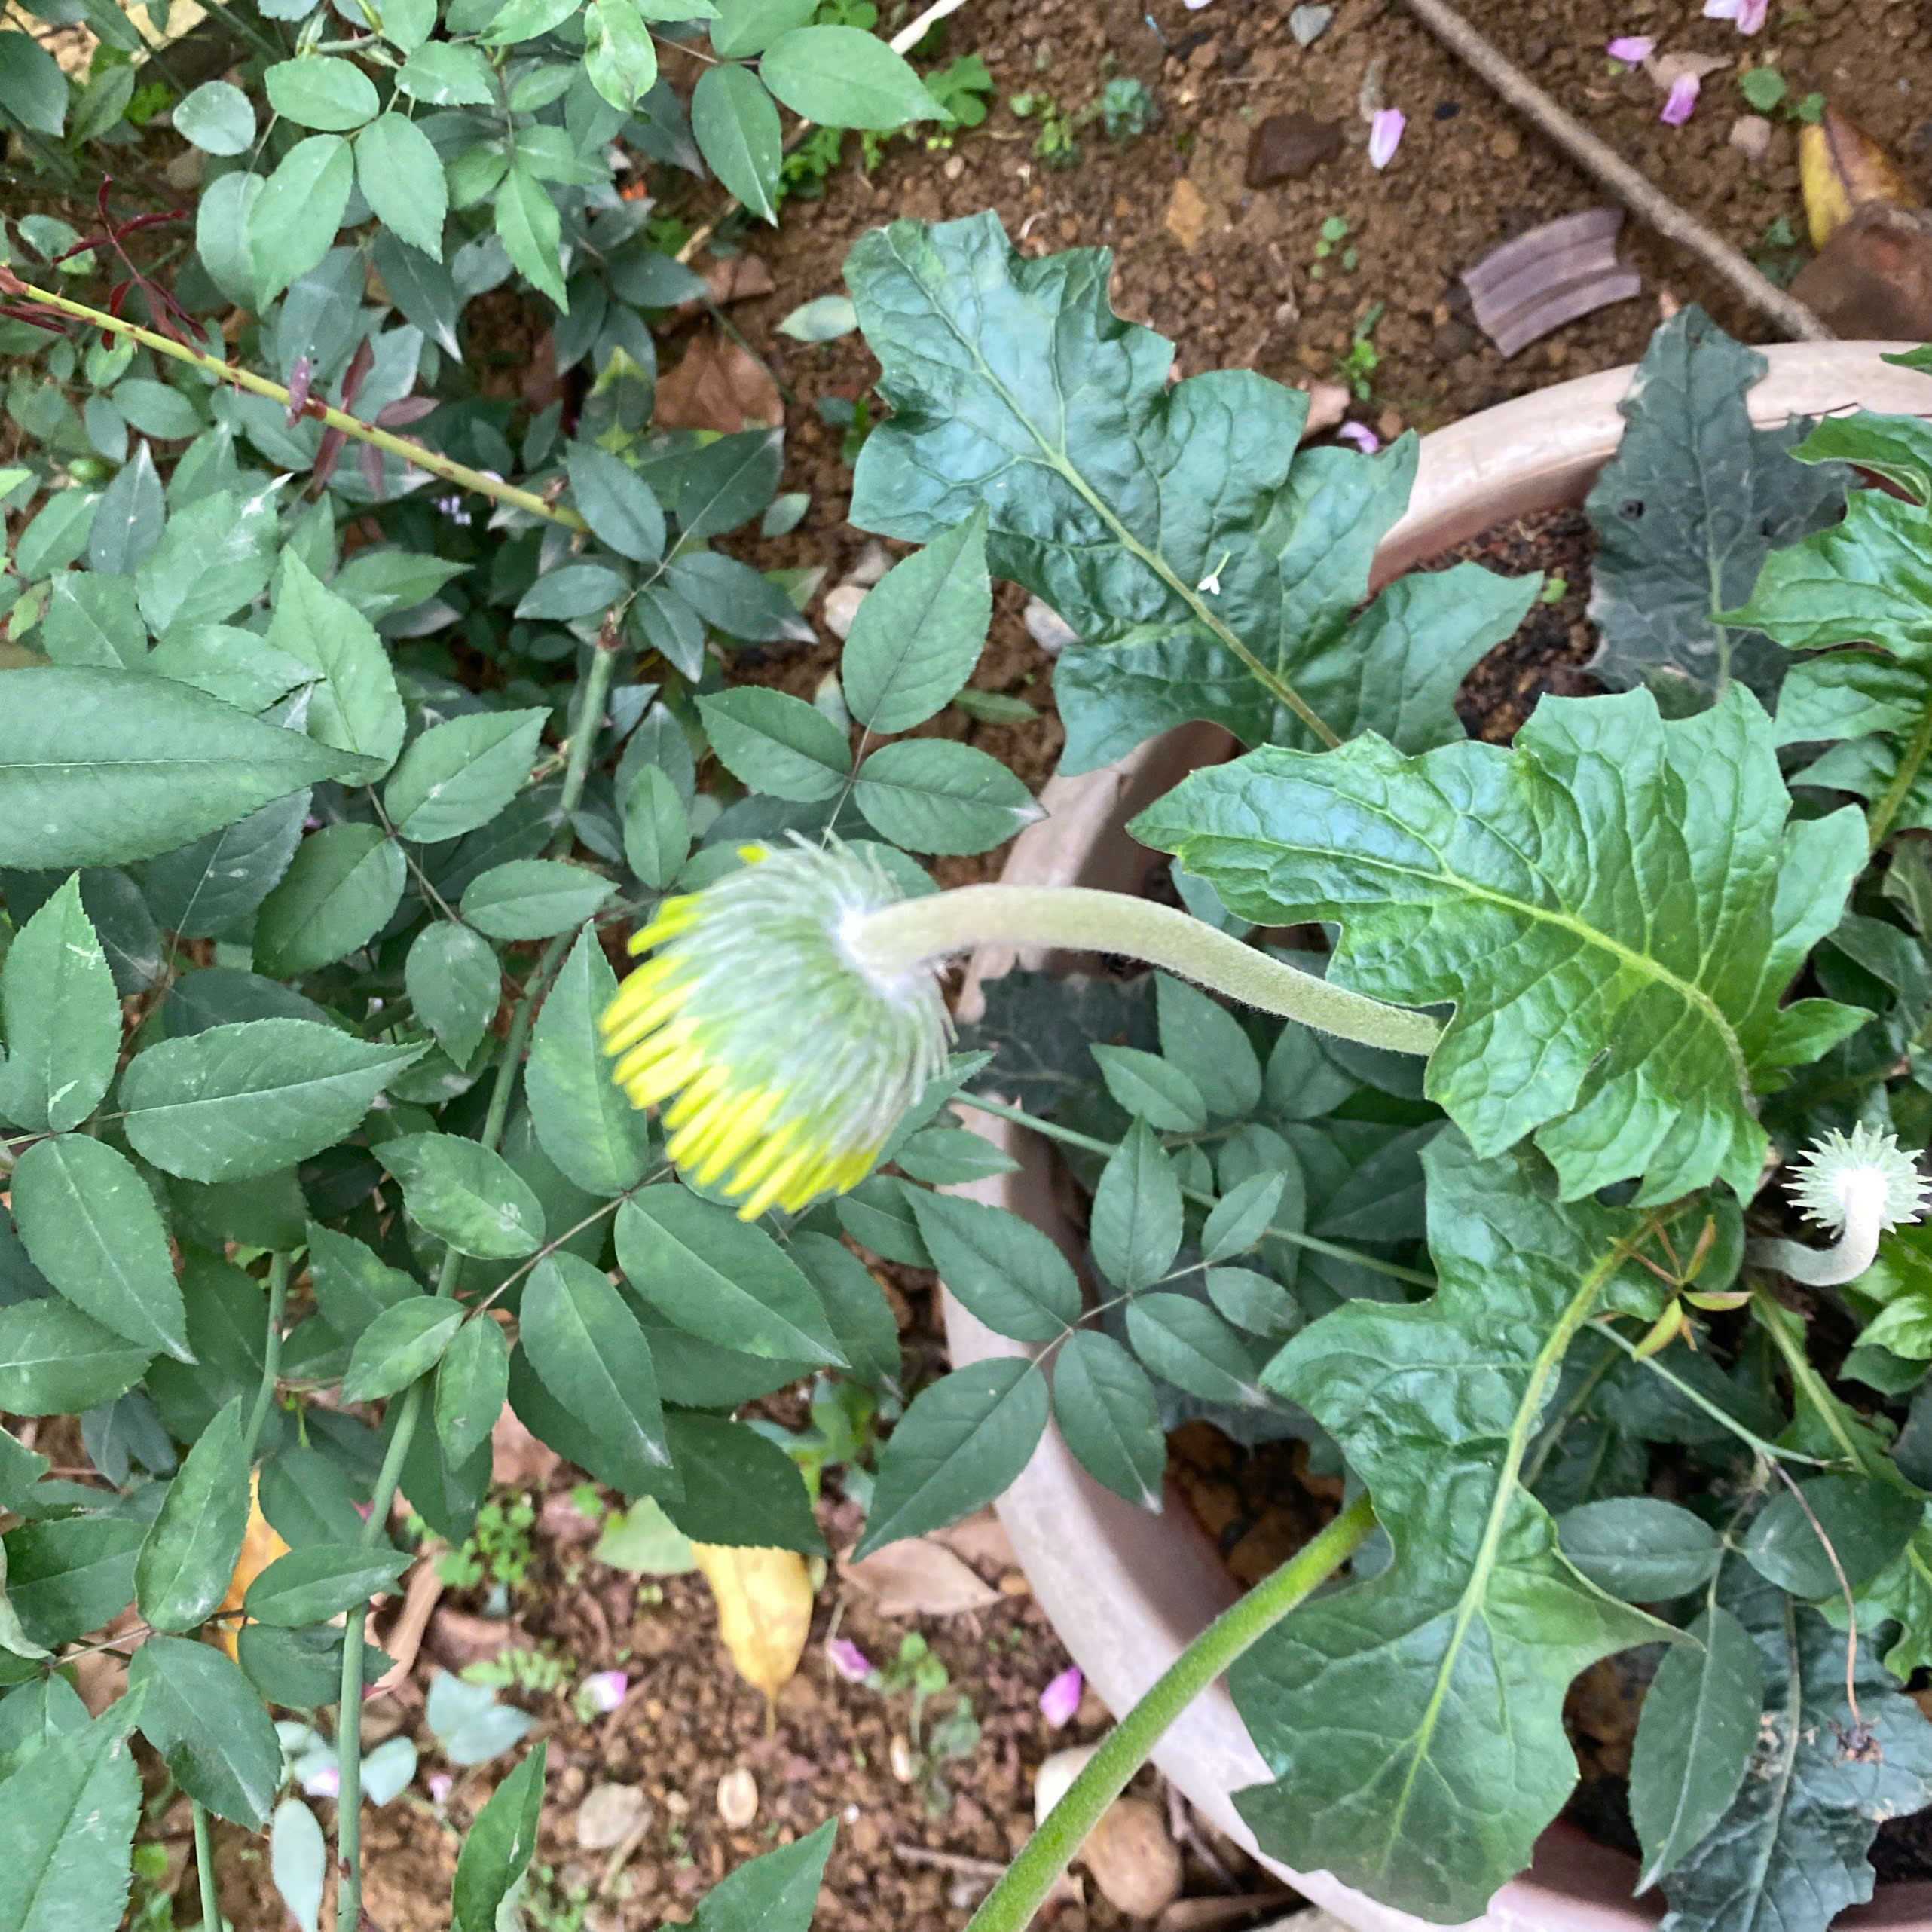hoa_huong_duong: (571, 692, 1932, 1872)
